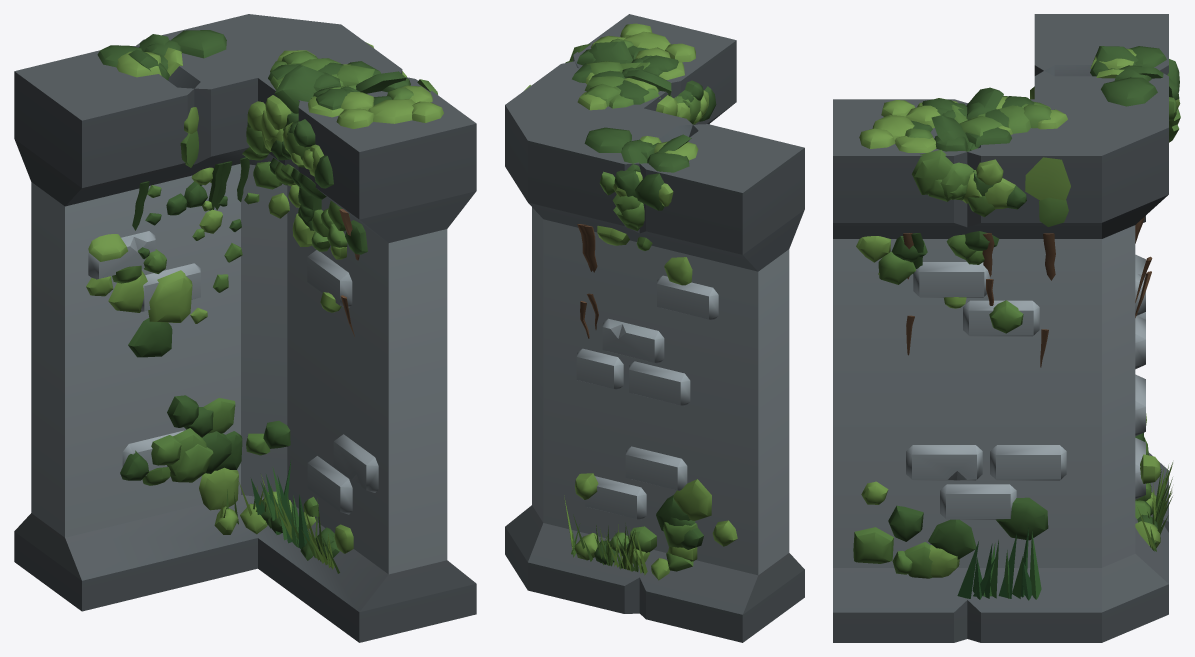
File: wall_overgrown_corner_B.glb
3 views of the same model, side by side, from view 1: azimuth 30°, elevation 25°; view 2: azimuth 150°, elevation 25°; view 3: azimuth 270°, elevation 25° (orthographic). The views are drawn at different scales.
Parts seen in each view (by area): view 1: Item; view 2: Item; view 3: Item.
Boxes of the visible parts, bbox=[...] form: Item: bbox=[14, 14, 476, 642]; Item: bbox=[505, 14, 804, 642]; Item: bbox=[833, 14, 1180, 642].
Size of the model in its own units: 2.62 by 4.17 by 2.59.
Materials: 3 (3 with a texture image).
